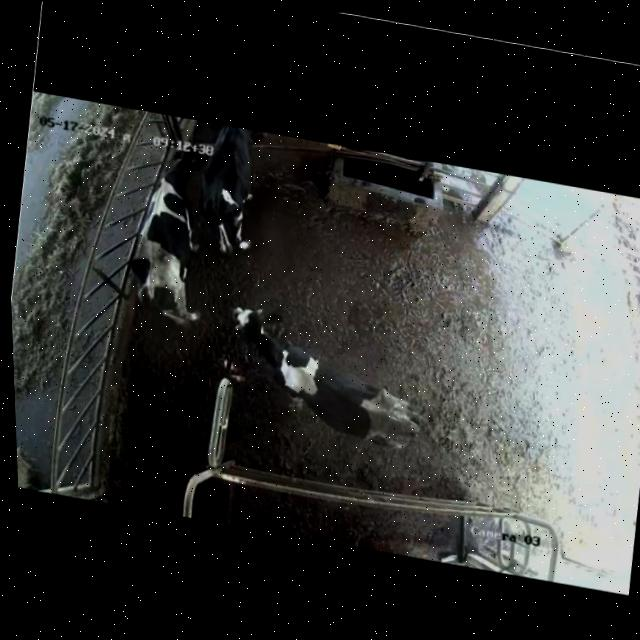stand: (211, 295, 442, 453), (117, 136, 221, 340), (195, 118, 285, 263)
